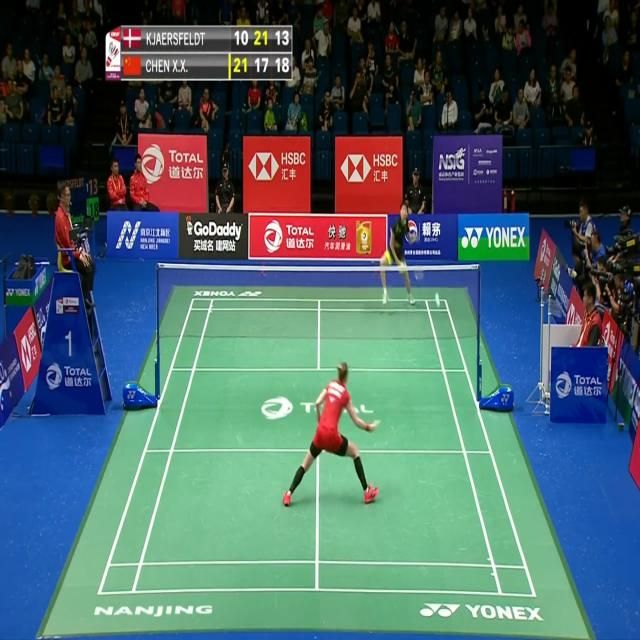Player1: (274, 352, 386, 513)
Player2: (378, 196, 428, 314)
